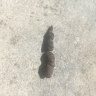Dog: (38, 24, 55, 79)
